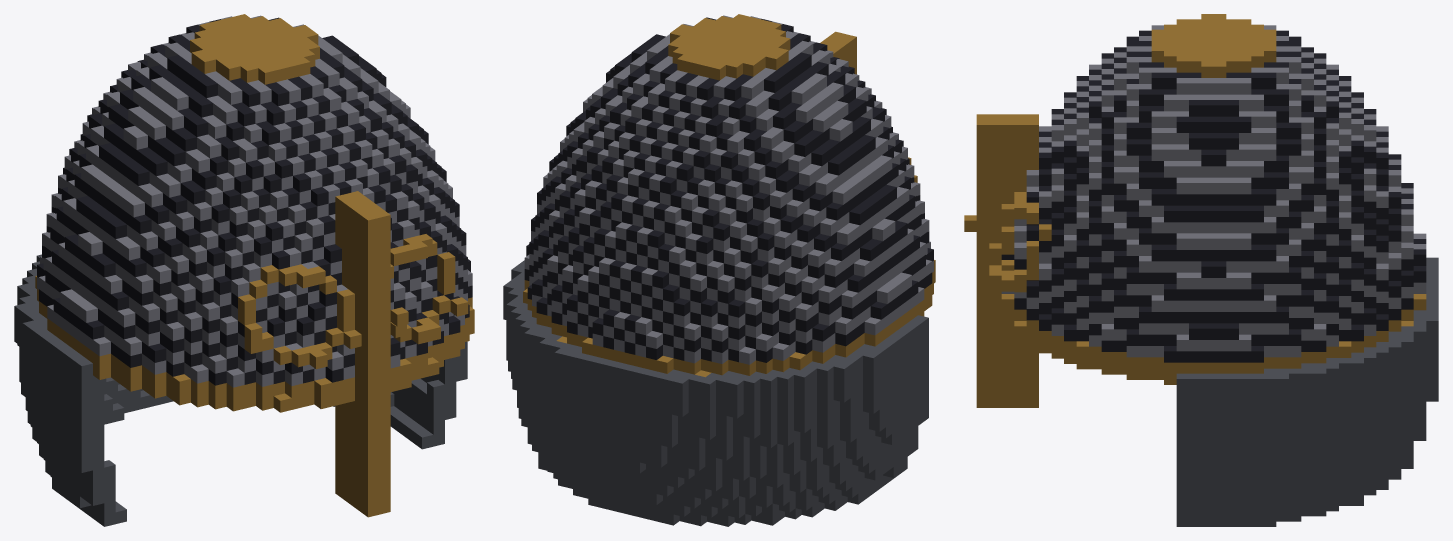
File: chain_rare_helmet.glb
The picture shows the model from 3 angles, left to right: view 1: azimuth 30°, elevation 25°; view 2: azimuth 150°, elevation 25°; view 3: azimuth 270°, elevation 25°; orthographic projection. The views are drawn at different scales.
Visible parts, largest first — view 1: chain_rare_helmet; view 2: chain_rare_helmet; view 3: chain_rare_helmet.
Boxes of the visible parts, x1,y1,x2,y2 form: chain_rare_helmet: [14, 14, 474, 526]; chain_rare_helmet: [503, 14, 935, 526]; chain_rare_helmet: [964, 14, 1438, 526].
Size of the model in its own units: 0.408 by 0.432 by 0.456.
